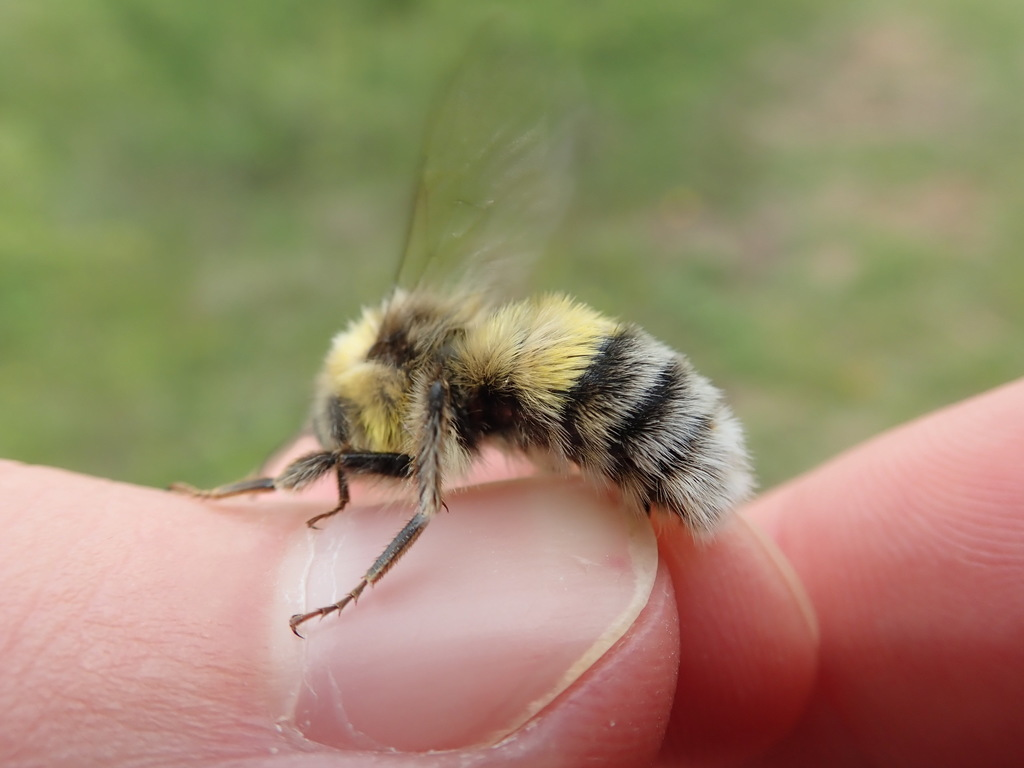bumblebee: (168, 7, 758, 640)
